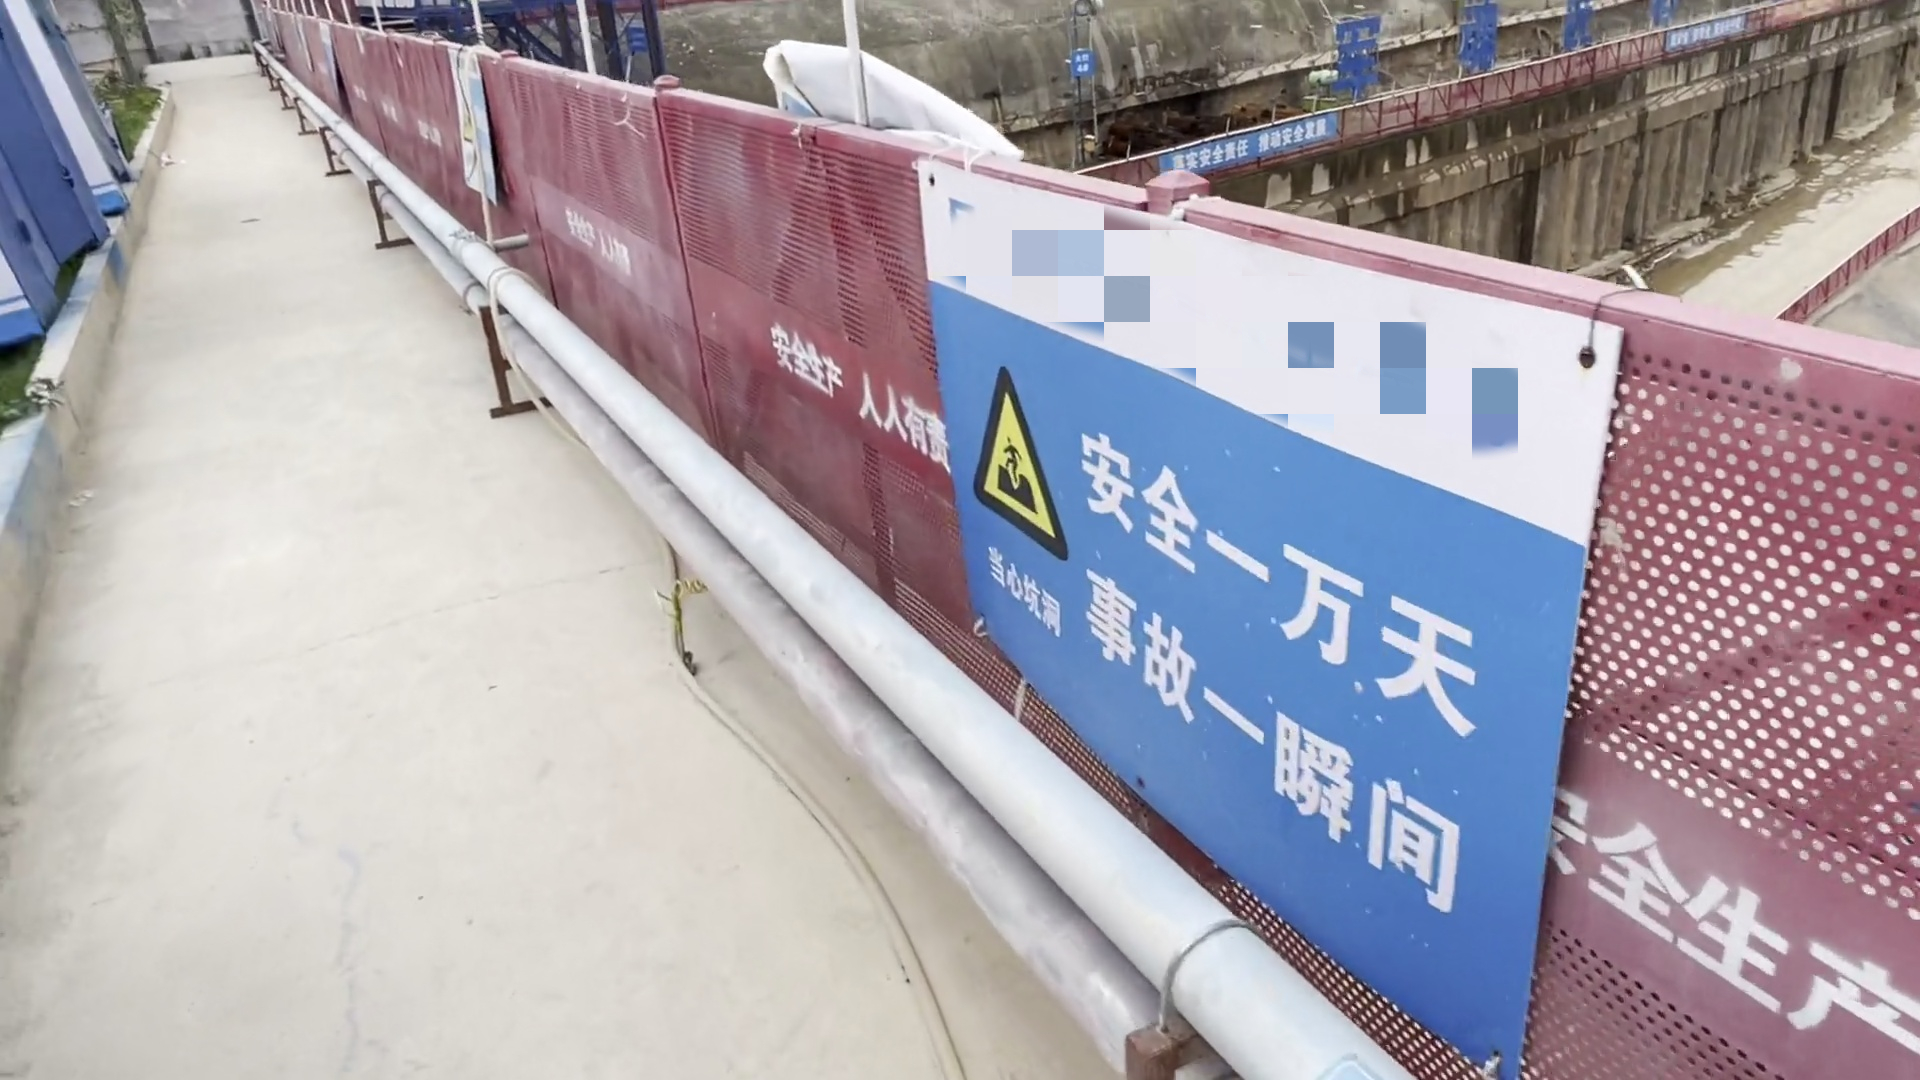slogan: (895, 161, 1648, 1048), (1149, 104, 1358, 167), (443, 38, 510, 222), (1656, 13, 1758, 55)
